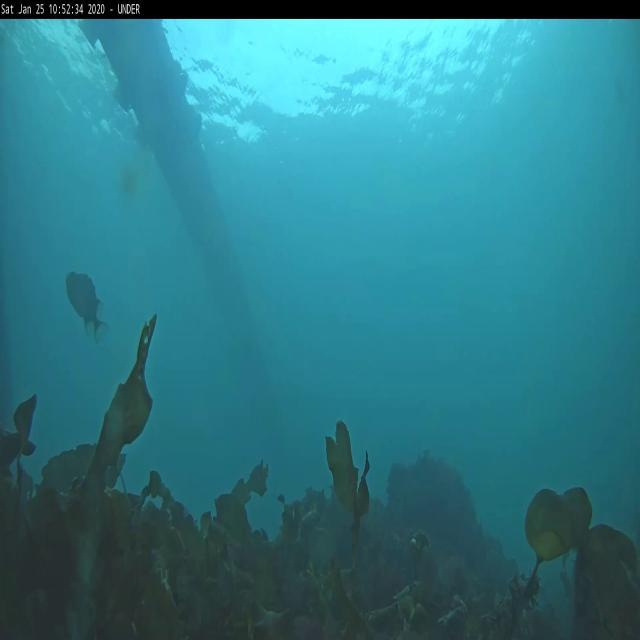fish: (67, 270, 108, 341)
